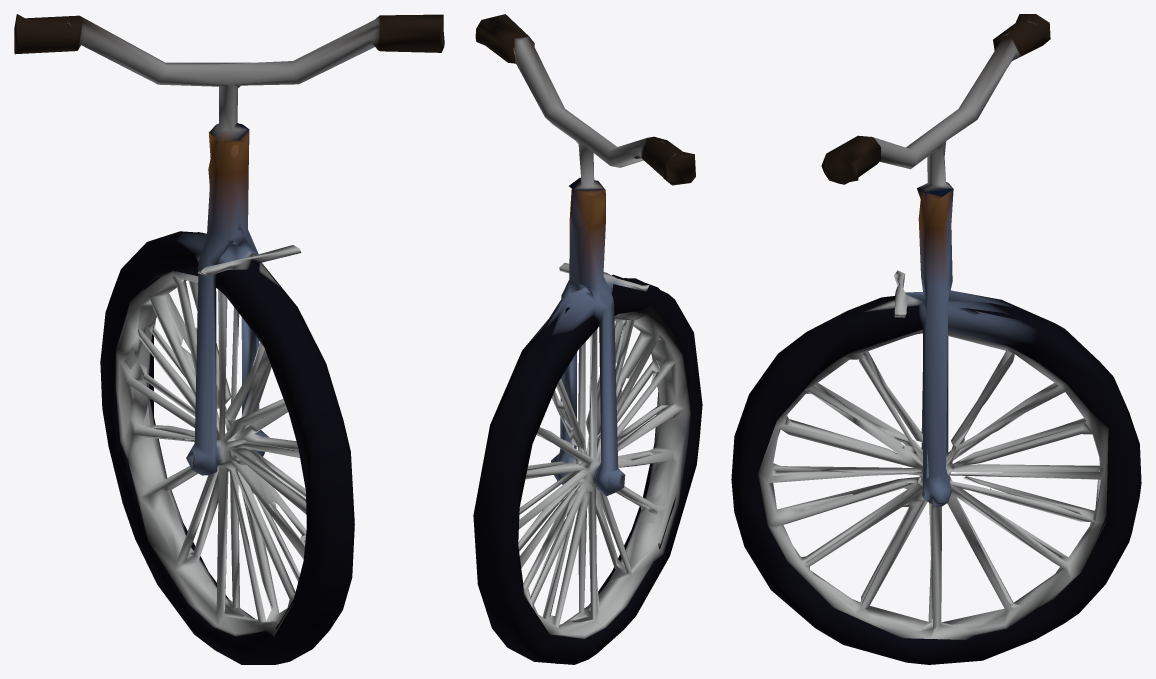
Rendered from gen3d-unicycle-lod1.glb.
3 views of the same model, side by side, from view 1: azimuth 30°, elevation 25°; view 2: azimuth 150°, elevation 25°; view 3: azimuth 270°, elevation 25° (orthographic). The views are drawn at different scales.
Visible parts, largest first — view 1: part_0; view 2: part_0; view 3: part_0.
Part boxes in pixels (x1=…): part_0: x1=14, y1=14, x2=444, y2=664; part_0: x1=473, y1=14, x2=702, y2=664; part_0: x1=731, y1=14, x2=1141, y2=664.
Size of the model in its own units: 0.5563 by 0.9985 by 0.6432.
